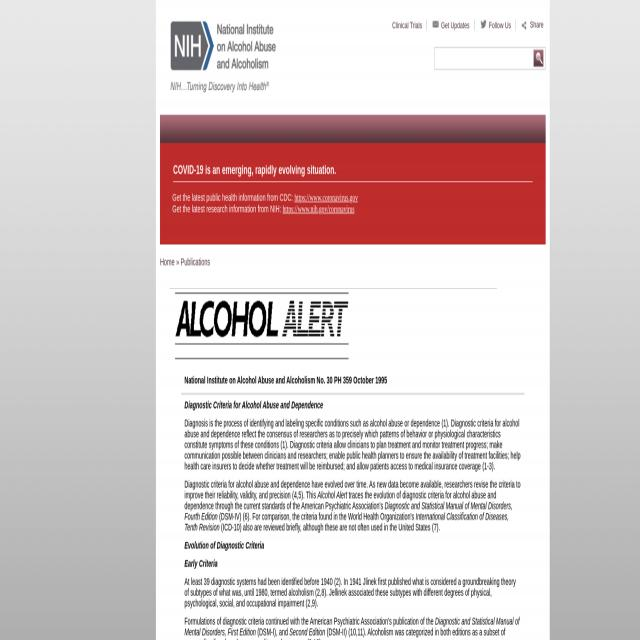button: (169, 285, 353, 363), (165, 12, 283, 98), (534, 50, 543, 66)
field: (435, 48, 545, 70)
